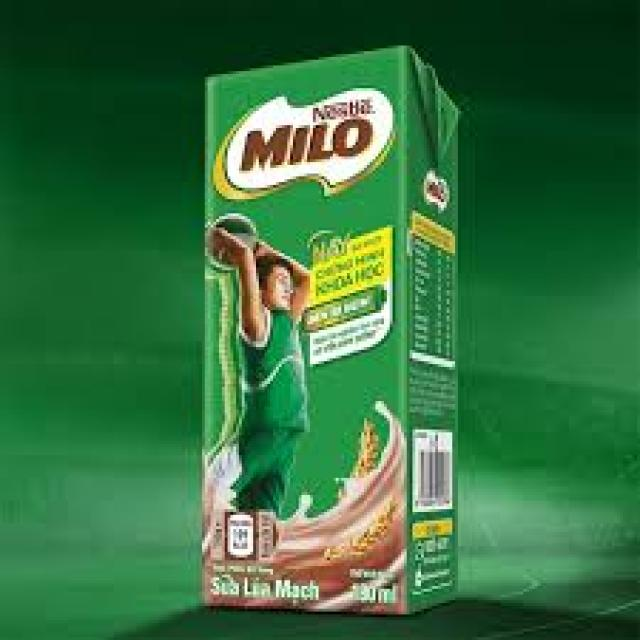sua milo: (172, 40, 494, 621)
